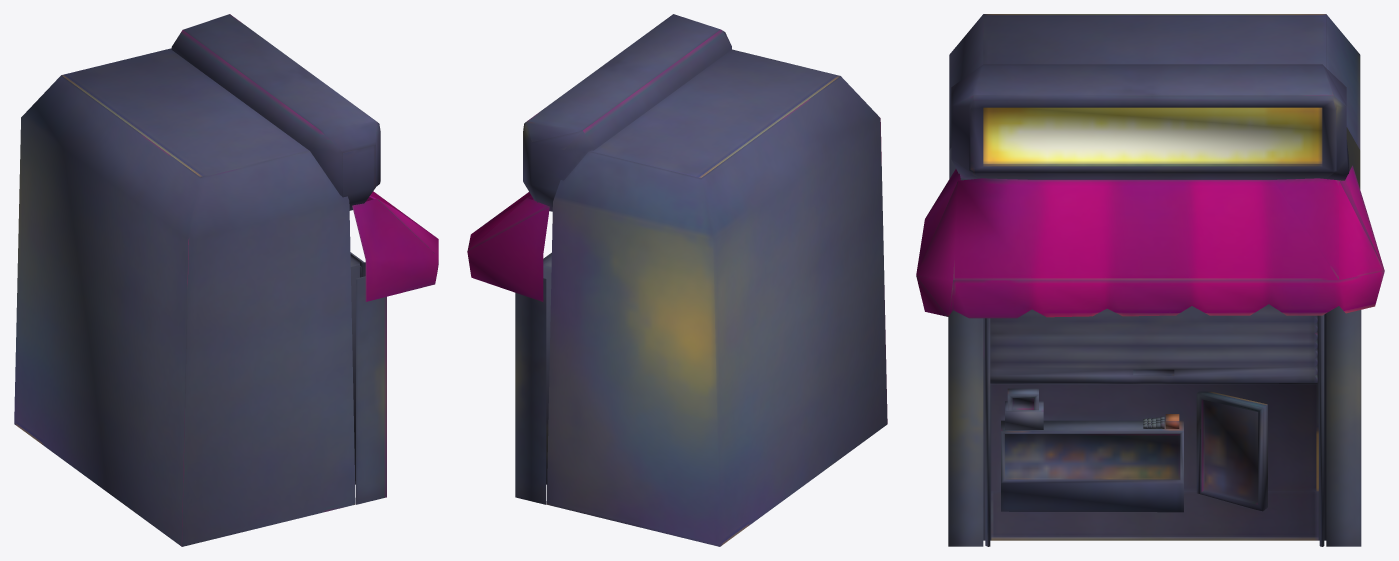
Rendered from shop_front.glb.
3 renders of one model, left to right at view 1: azimuth 30°, elevation 25°; view 2: azimuth 150°, elevation 25°; view 3: azimuth 270°, elevation 25°, orthographic. The views are drawn at different scales.
Parts seen in each view (by area): view 1: tripo_node_531e78f0-9cce-49b8-a485-6b53c36081de; view 2: tripo_node_531e78f0-9cce-49b8-a485-6b53c36081de; view 3: tripo_node_531e78f0-9cce-49b8-a485-6b53c36081de.
Part boxes in pixels (x1,y1,x2,y2): tripo_node_531e78f0-9cce-49b8-a485-6b53c36081de: (14,14,438,546); tripo_node_531e78f0-9cce-49b8-a485-6b53c36081de: (467,14,887,546); tripo_node_531e78f0-9cce-49b8-a485-6b53c36081de: (916,14,1384,546).
Size of the model in its own units: 0.7324 by 0.998 by 0.9395.
Materials: 1 (1 with a texture image).
